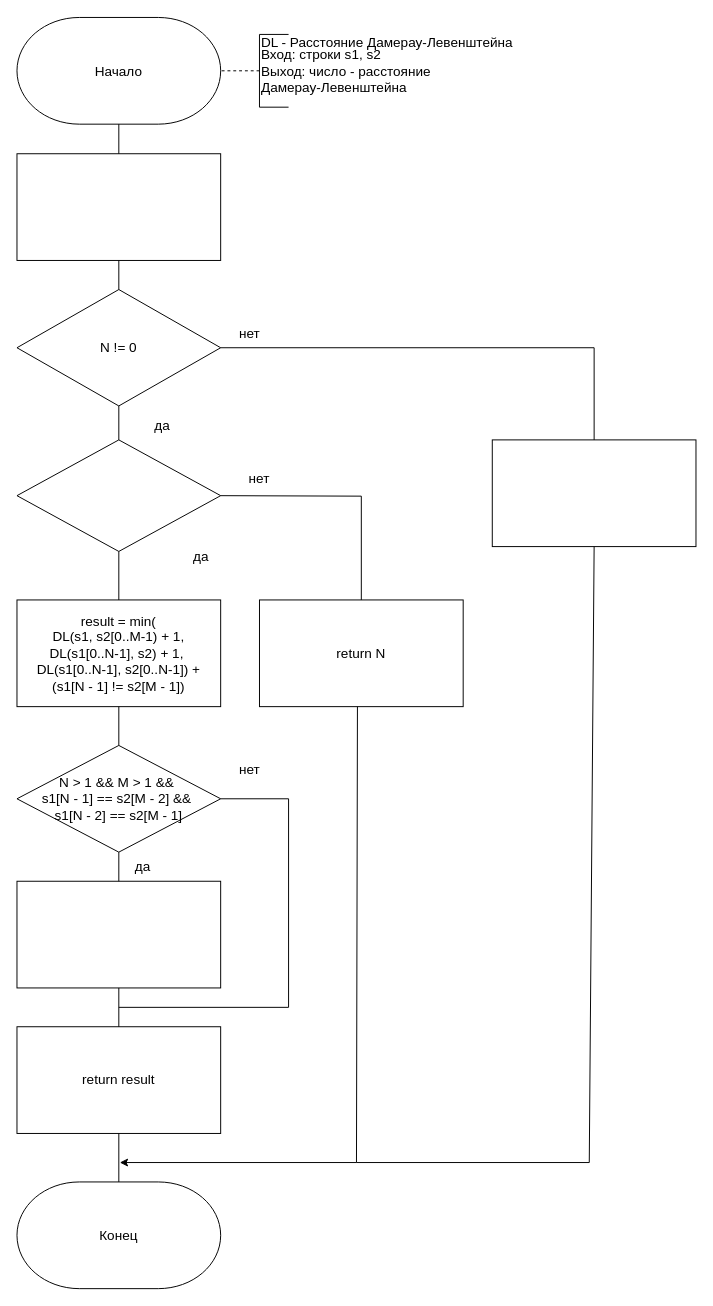
Some shapes in this 713 by 1306 pixel diagram are drawn without their labels. The centre of each missing label's shape, as x and y in pixels:
M != 0: (118,495)
N = len(s1) M = len(s2): (118,206)
result = min(result, DL(s1[0..N - 2],s2[0..M-2]): (118,934)
return M: (593,493)
